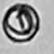correct: (0, 3, 42, 45)
